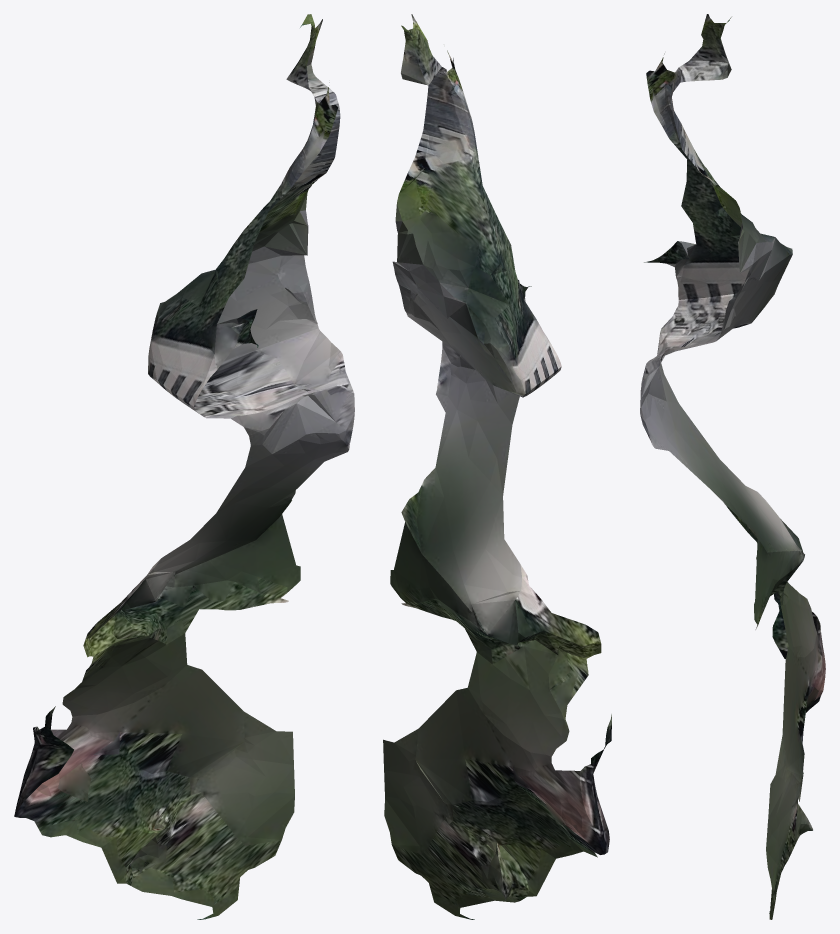
The model's file is Tile_+000_+001.obj.
3 renders of one model, left to right at view 1: azimuth 30°, elevation 25°; view 2: azimuth 150°, elevation 25°; view 3: azimuth 270°, elevation 25°, orthographic. The views are drawn at different scales.
Bounding box in the file's own units: 41.4 × 139 × 24.73.
1 material, 1 textured.
